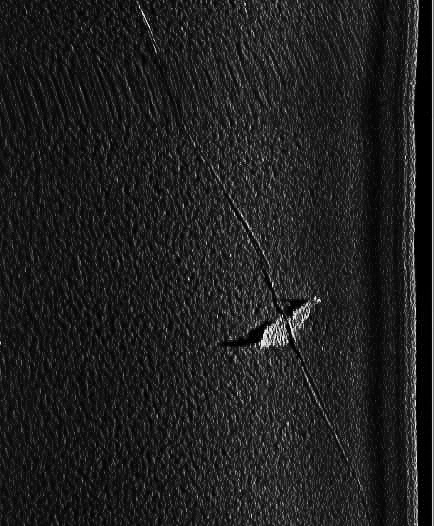ship: (261, 293, 322, 353)
